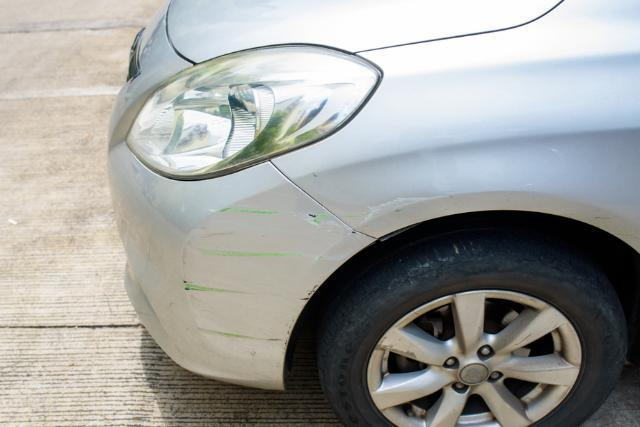Bumper: (141, 163, 379, 389)
